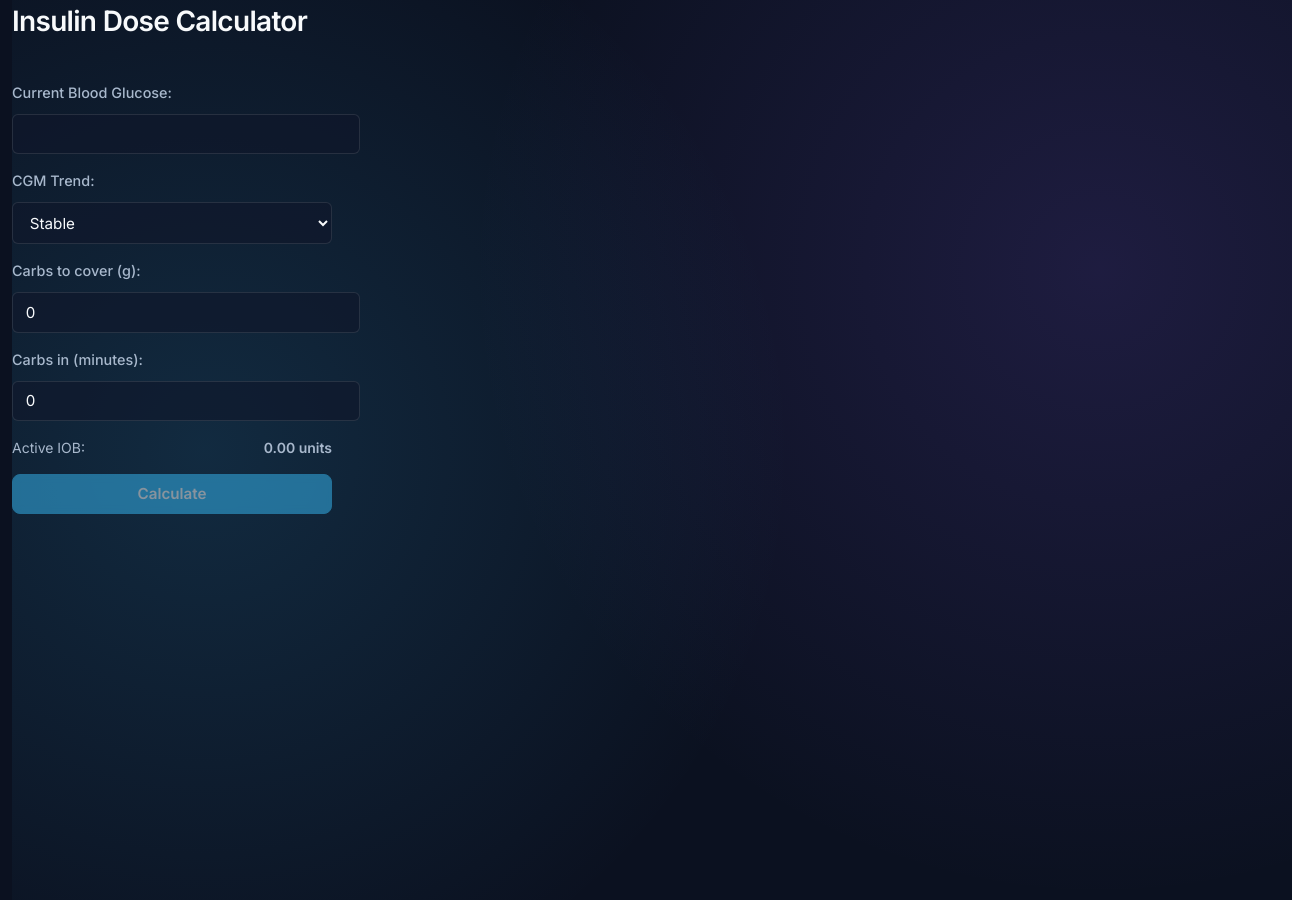
Test: DoseCalculator › shows error message on API failure
This screenshot has width=1292, height=900.
In the number field labelled "Current Blood Glucose:": (186, 134) 12,114 -> 360,154, type "180"
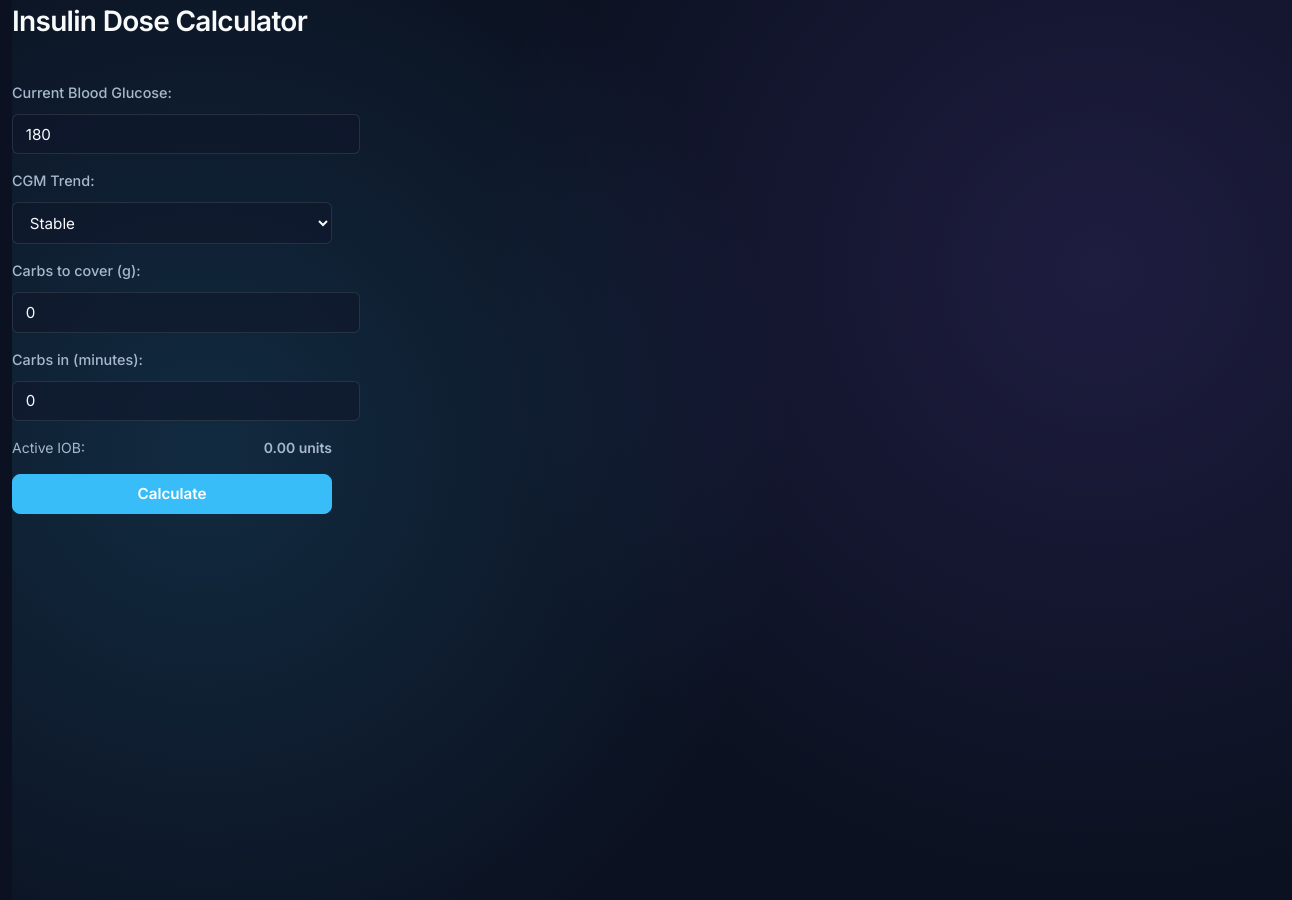
Click the button "Calculate": (172, 494) 12,474 -> 332,514
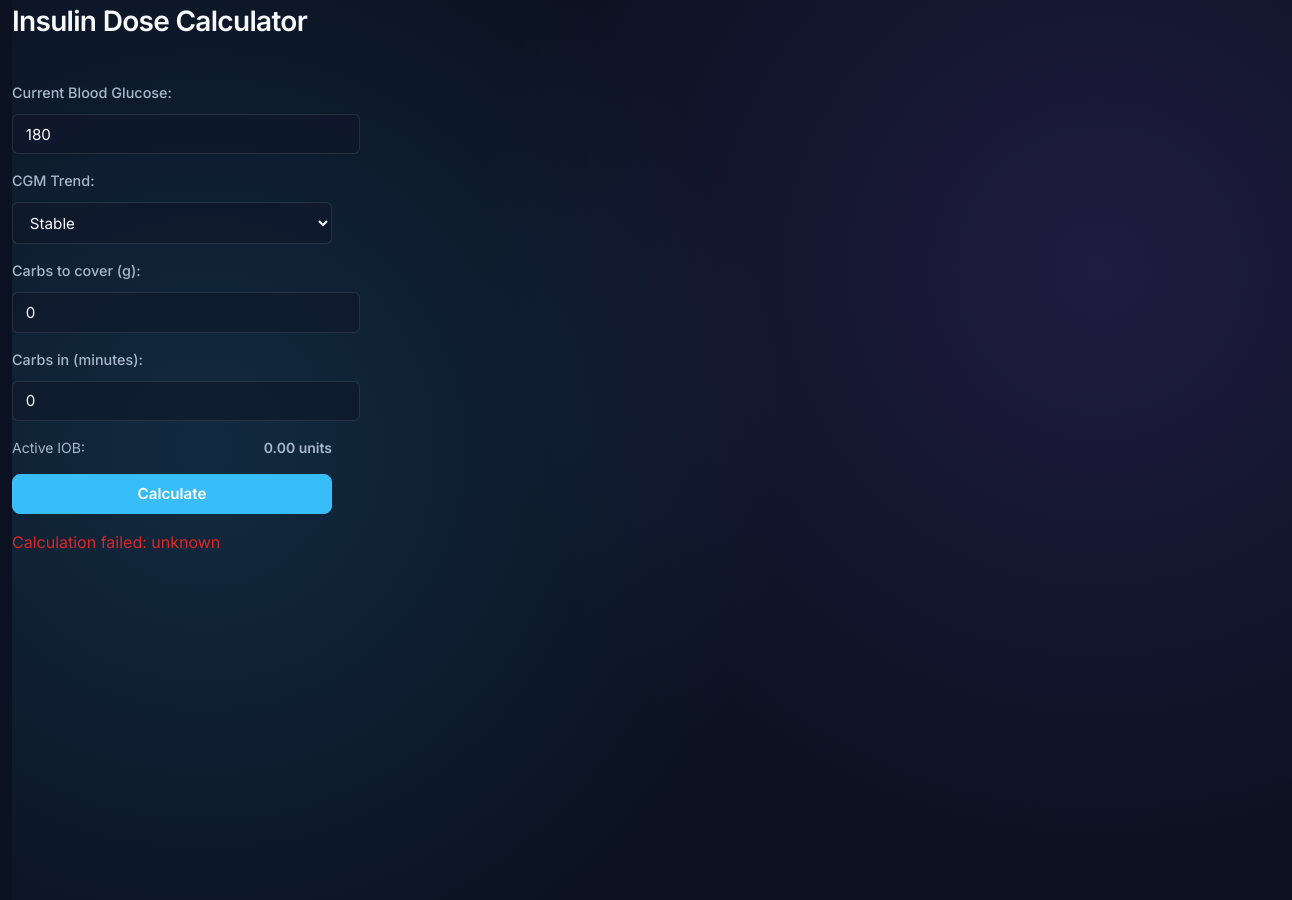
Result: the text "Calculation failed: unknown" is shown at 12,532 -> 220,552
